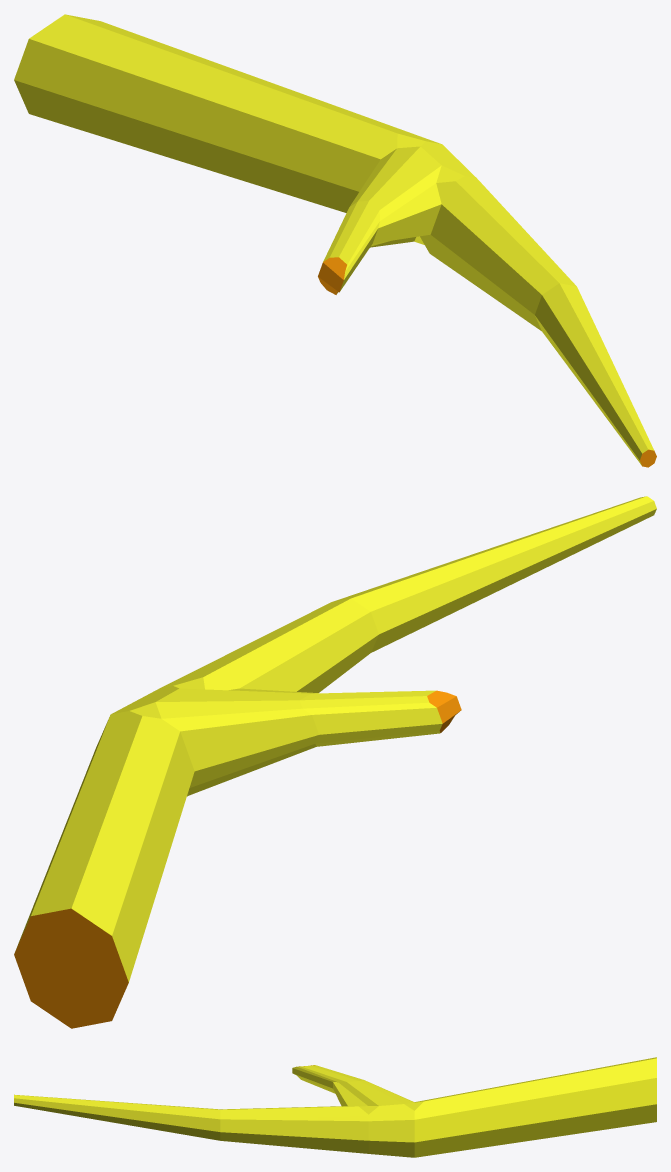
The model's file is Stick_37.fbx.
3 views of the same model, one above another, from view 1: azimuth 30°, elevation 25°; view 2: azimuth 150°, elevation 25°; view 3: azimuth 270°, elevation 25° (orthographic). The views are drawn at different scales.
Visible parts, largest first — view 1: Circle.317; view 2: Circle.317; view 3: Circle.317.
Part boxes in pixels (x1,y1,x2,y2): Circle.317: (14, 14, 656, 467); Circle.317: (14, 496, 656, 1028); Circle.317: (14, 1057, 656, 1157).
Bounding box in the file's own units: 7.87 × 3.41 × 31.71.
